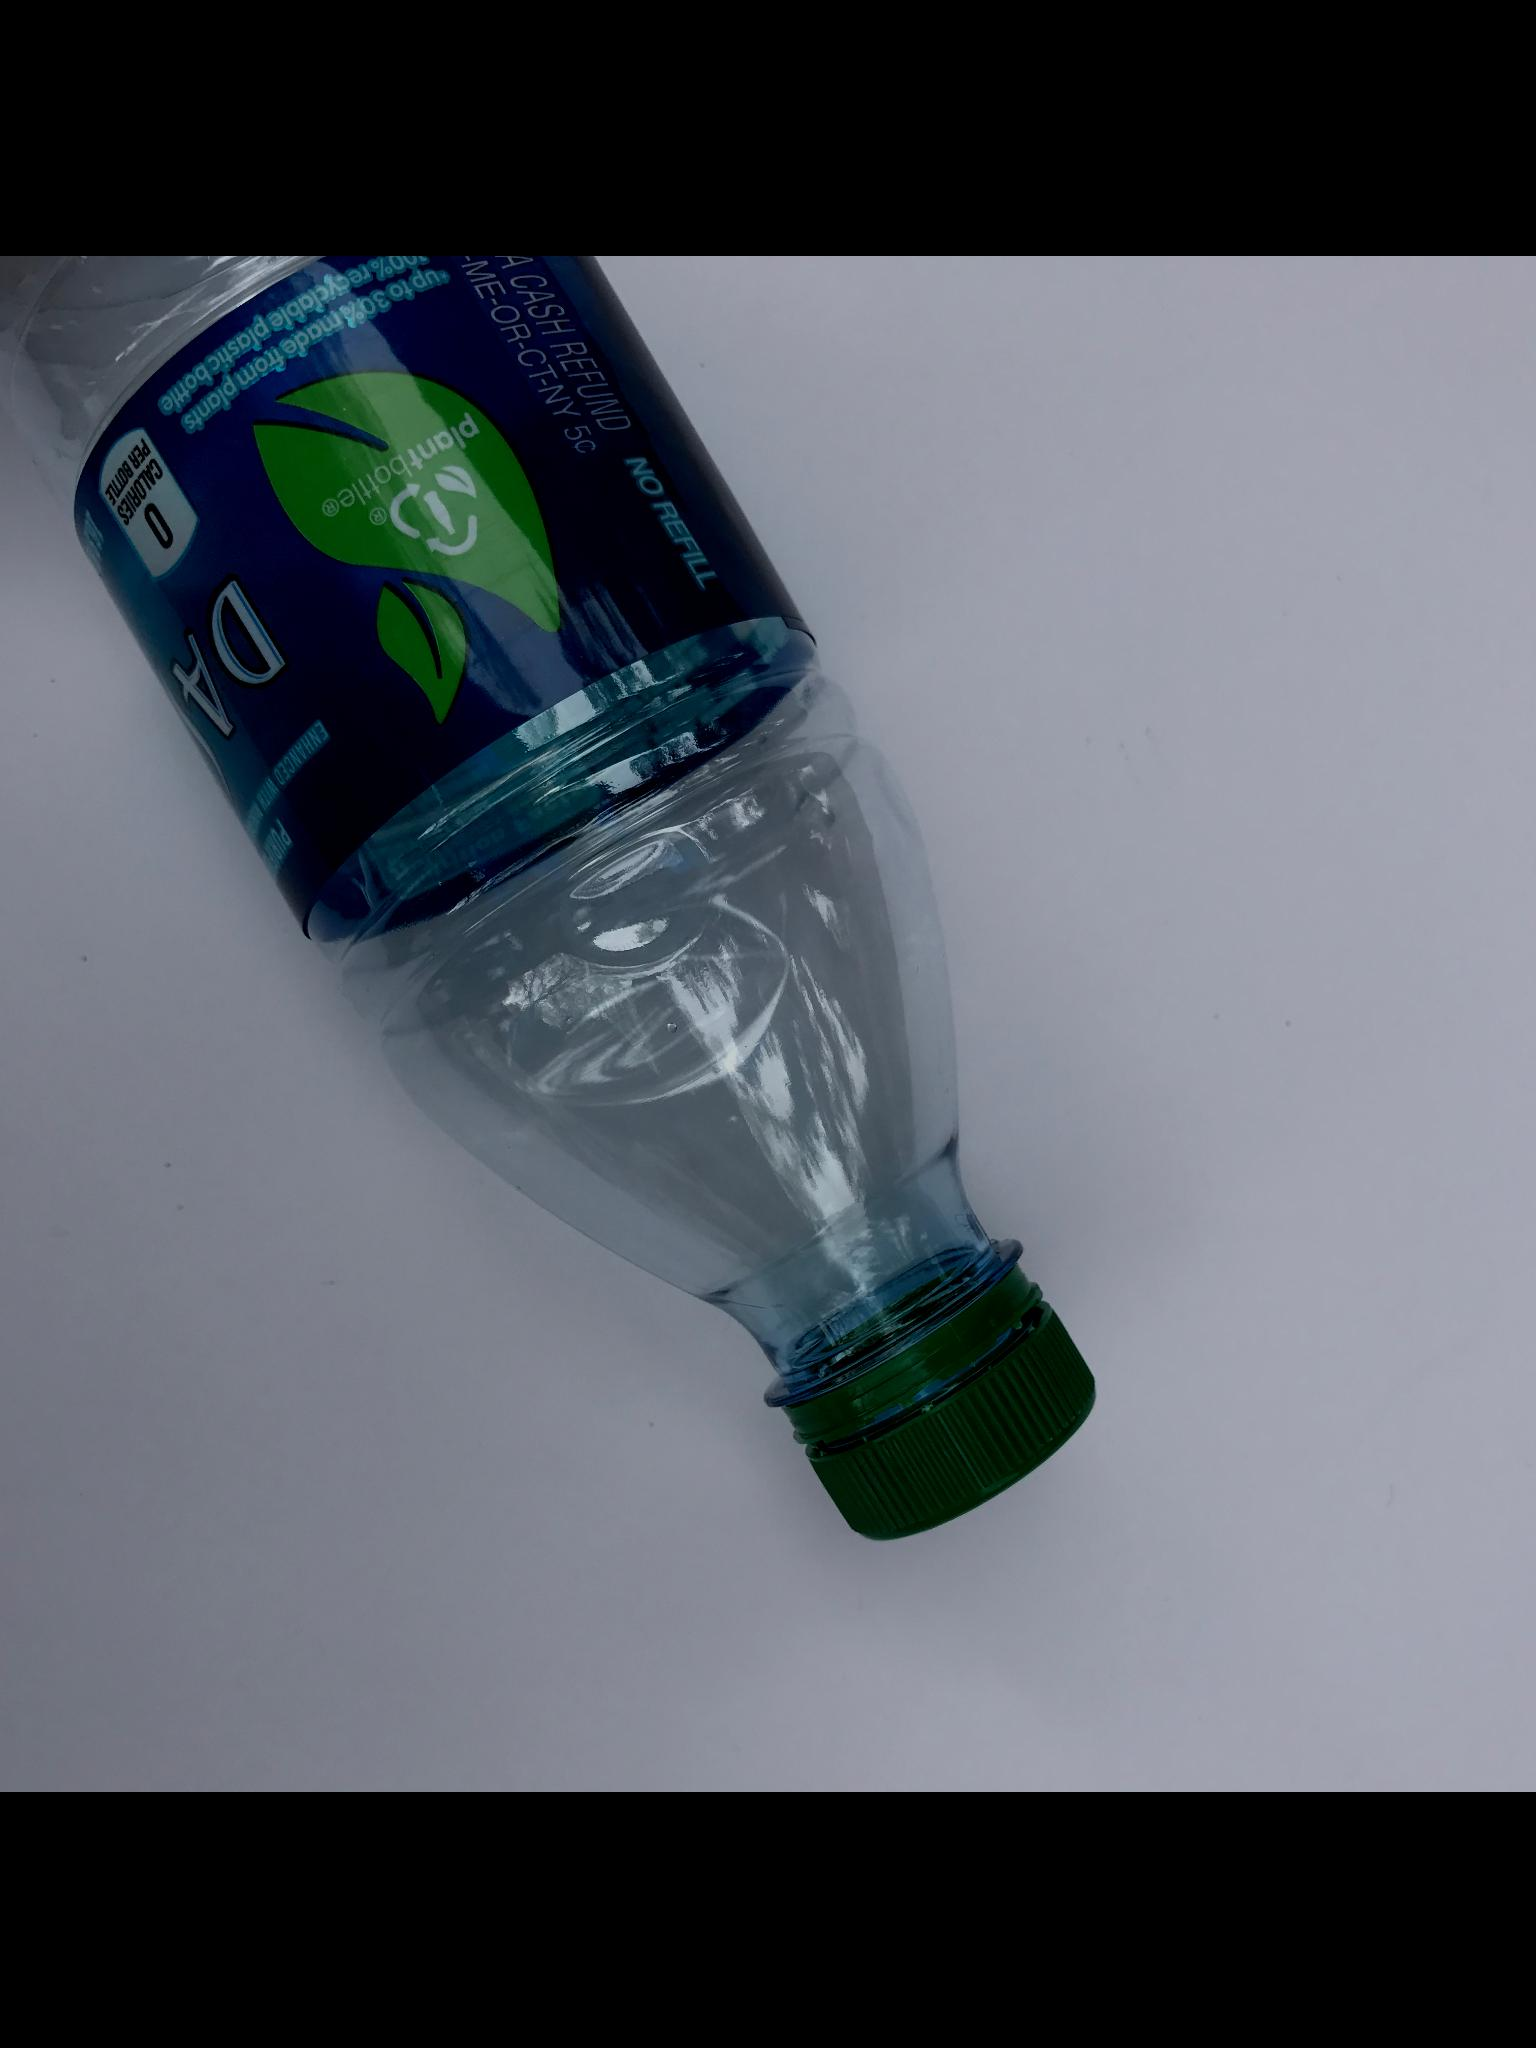Plastic: (0, 256, 1113, 1550)
